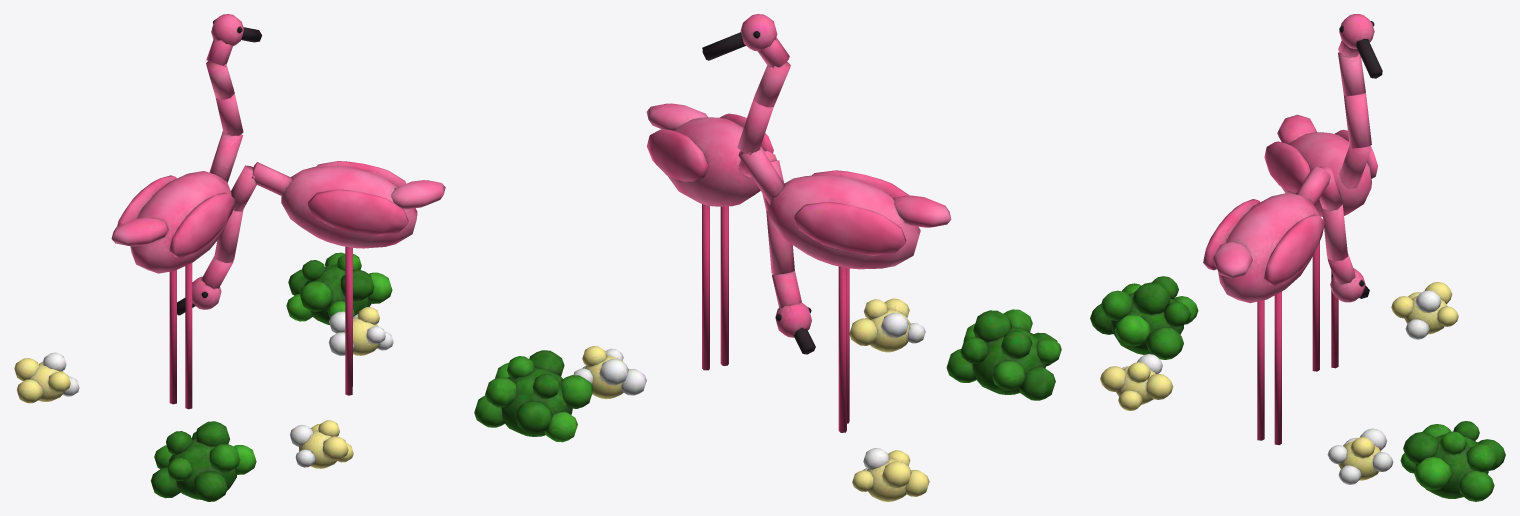
The model's file is lawn_flamingos.glb.
The picture shows the model from 3 angles, left to right: view 1: azimuth 30°, elevation 25°; view 2: azimuth 150°, elevation 25°; view 3: azimuth 270°, elevation 25°; orthographic projection. The views are drawn at different scales.
Parts seen in each view (by area): view 1: lawn_flamingos; view 2: lawn_flamingos; view 3: lawn_flamingos.
Boxes of the visible parts, left/top/right/bottom form: lawn_flamingos: left=14, top=14, right=445, bottom=501; lawn_flamingos: left=474, top=14, right=1061, bottom=501; lawn_flamingos: left=1090, top=14, right=1505, bottom=501.
Bounding box in the file's own units: 0.9117 × 0.8676 × 0.8184.
1 material, 1 textured.
